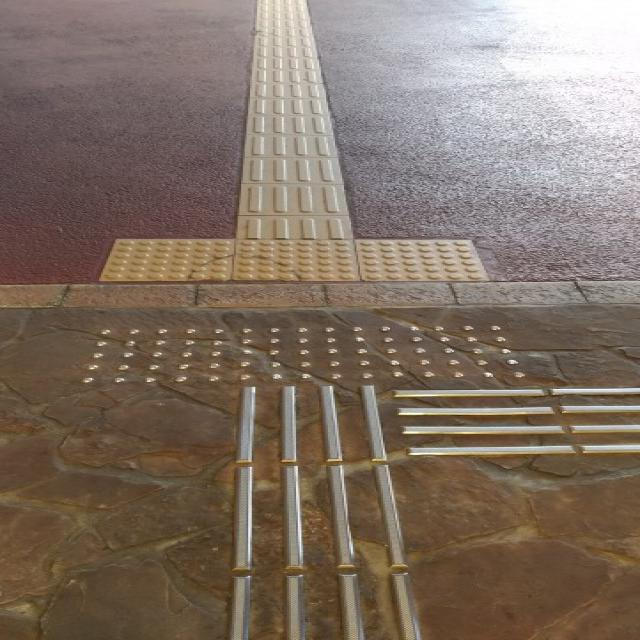tactile-guide-path: (220, 387, 422, 639), (234, 0, 358, 242), (78, 324, 527, 387), (397, 383, 638, 459), (101, 240, 493, 282)
